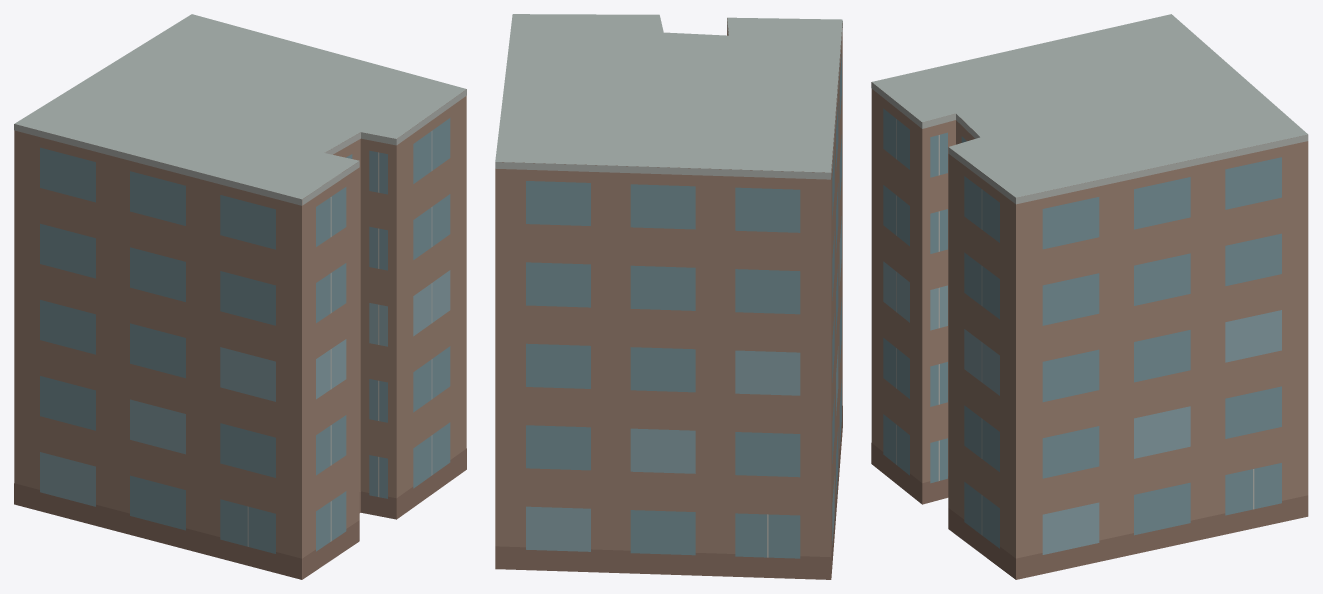
File: survey-upis-32744824.glb
The picture shows the model from 3 angles, left to right: view 1: azimuth 30°, elevation 25°; view 2: azimuth 150°, elevation 25°; view 3: azimuth 270°, elevation 25°; orthographic projection. The views are drawn at different scales.
Visible parts, largest first — view 1: survey-upis-32744824.tmp; view 2: survey-upis-32744824.tmp; view 3: survey-upis-32744824.tmp.
Part boxes in pixels (left/top/right/bottom): survey-upis-32744824.tmp: left=14, top=14, right=466, bottom=579; survey-upis-32744824.tmp: left=495, top=14, right=842, bottom=579; survey-upis-32744824.tmp: left=871, top=14, right=1308, bottom=579.
Bounding box in the file's own units: 14.71 × 14.25 × 14.77.
